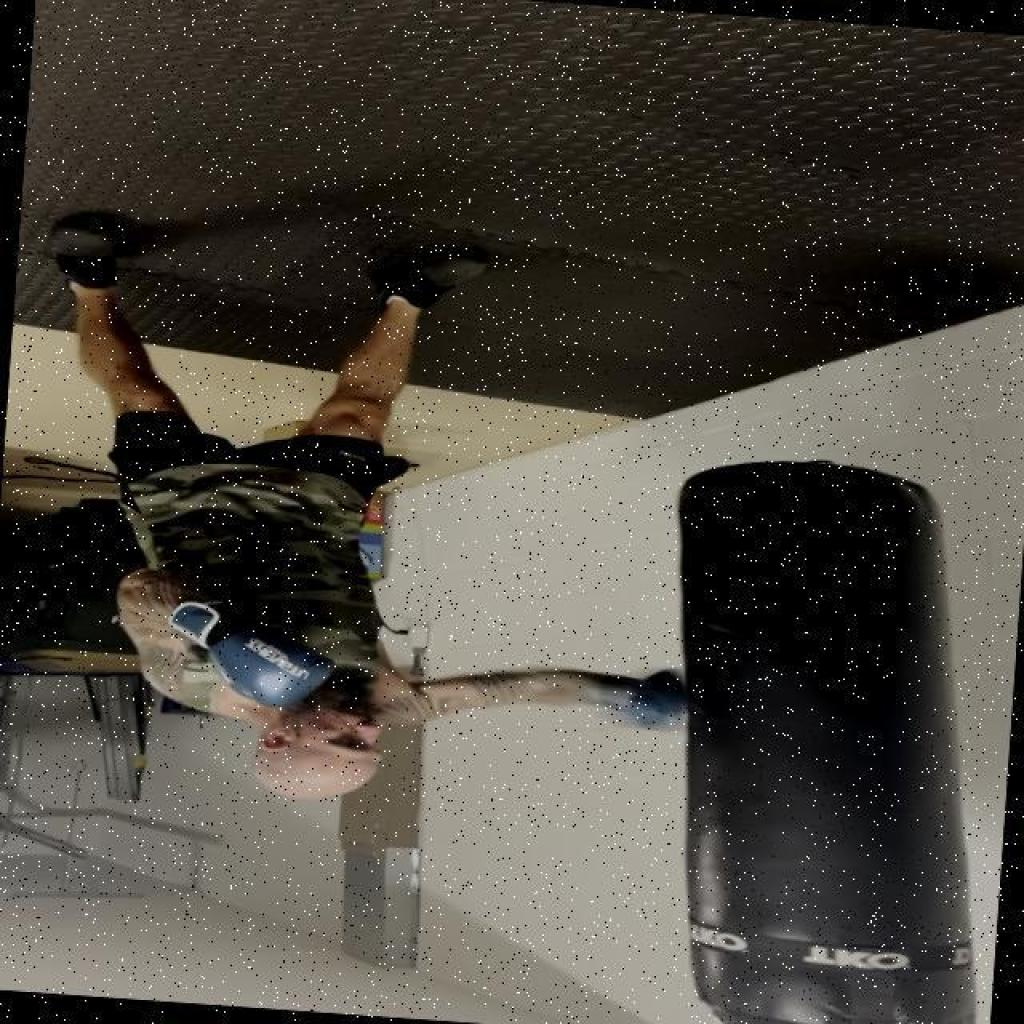bag: (661, 443, 955, 1024)
jab: (75, 512, 744, 874)
